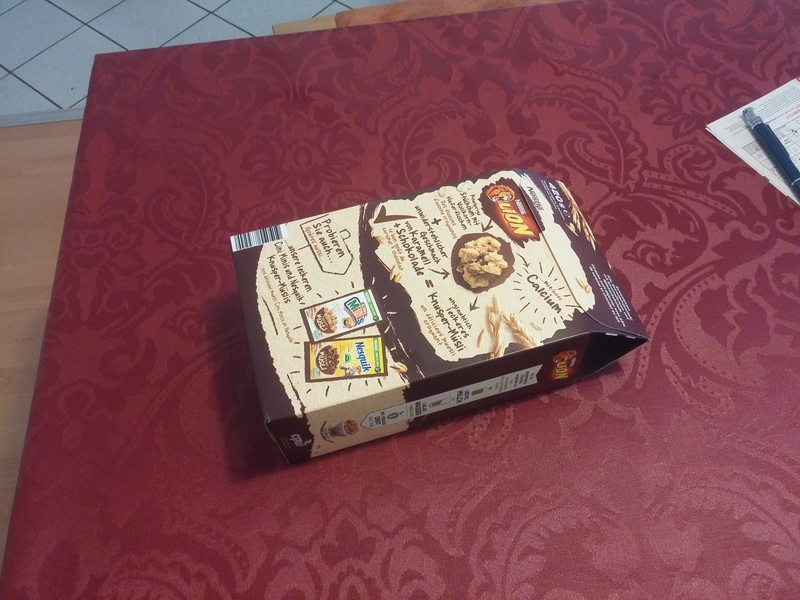cereals: (227, 166, 652, 466)
